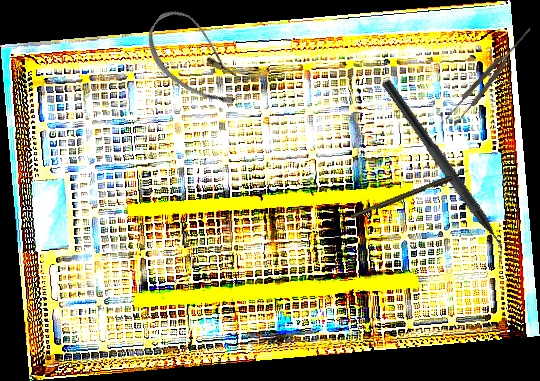Cannula: (134, 1, 259, 117)
Chopper: (369, 78, 519, 271)
Hook Surgical: (350, 168, 470, 220)
Tissue Forceps: (443, 23, 537, 129)
